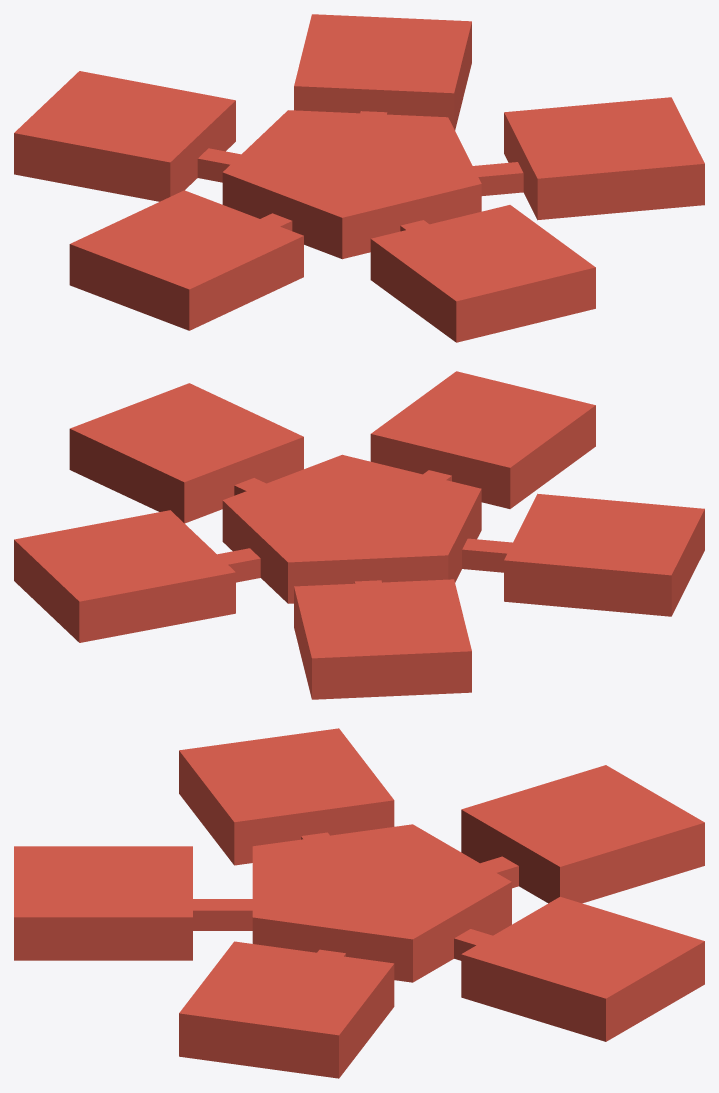
File: egyptTry.gltf
3 views of the same model, one above another, from view 1: azimuth 30°, elevation 25°; view 2: azimuth 150°, elevation 25°; view 3: azimuth 270°, elevation 25° (orthographic). The views are drawn at different scales.
Visible parts, largest first — view 1: room5.001; view 2: room5.001; view 3: room5.001.
Part boxes in pixels (x1=…): room5.001: x1=14, y1=14, x2=704, y2=342; room5.001: x1=14, y1=371, x2=704, y2=699; room5.001: x1=14, y1=728, x2=704, y2=1078.
Size of the model in its own units: 122 by 8 by 116.
